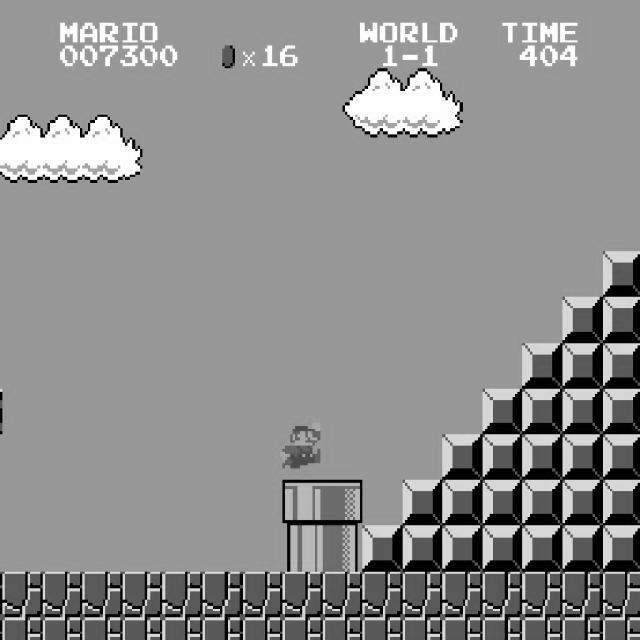1- brick_block: (0, 388, 2, 434)
11- little_mario: (277, 420, 320, 468)
14- pipe: (282, 526, 323, 572), (322, 526, 363, 572)
15- pipe_head: (282, 480, 323, 526), (322, 480, 363, 526)
17- undestructible_block: (2, 572, 43, 618), (42, 572, 83, 618), (82, 572, 123, 618), (122, 572, 163, 618), (162, 572, 203, 618), (202, 572, 243, 618), (242, 572, 283, 618), (282, 572, 323, 618), (322, 572, 363, 618), (362, 572, 403, 618), (402, 572, 443, 618), (442, 572, 483, 618), (482, 572, 523, 618), (522, 572, 563, 618), (562, 572, 603, 618), (603, 572, 640, 618), (2, 617, 43, 640), (42, 617, 83, 640), (82, 617, 123, 640), (122, 617, 163, 640), (162, 617, 203, 640), (202, 617, 243, 640), (242, 617, 283, 640), (282, 617, 323, 640), (322, 617, 363, 640), (362, 617, 403, 640), (402, 617, 443, 640), (442, 617, 483, 640), (482, 617, 523, 640), (522, 617, 563, 640), (562, 617, 603, 640), (603, 617, 640, 640), (0, 571, 2, 617), (0, 617, 2, 639)
9- hard_block: (362, 526, 403, 572), (402, 480, 443, 526), (402, 526, 443, 572), (442, 434, 483, 480), (442, 480, 483, 526), (442, 526, 483, 572), (482, 388, 523, 434), (482, 434, 523, 480), (482, 480, 523, 526), (482, 526, 523, 572), (522, 388, 563, 434), (522, 434, 563, 480), (522, 480, 563, 526), (522, 526, 563, 572), (562, 297, 603, 343), (562, 388, 603, 434), (562, 434, 603, 480), (562, 480, 603, 526), (562, 526, 603, 572), (522, 343, 563, 388), (562, 343, 603, 388), (603, 252, 640, 298), (603, 297, 640, 343), (603, 388, 640, 434), (603, 434, 640, 480), (603, 480, 640, 526), (603, 526, 640, 572), (603, 343, 640, 388)
